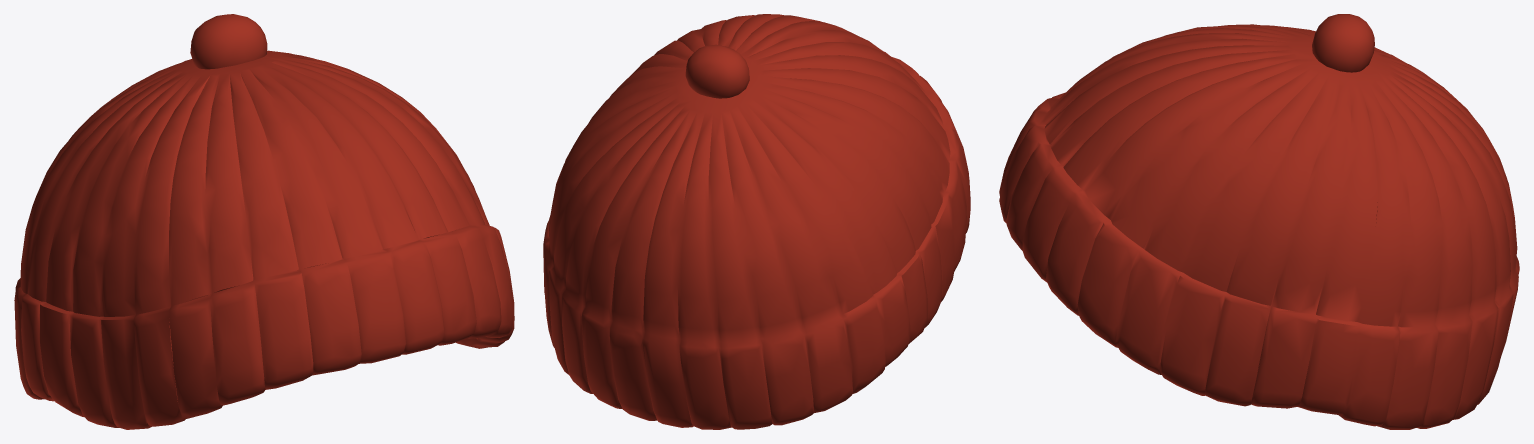
Rendered from headwear-beanie-red-8b26d170.glb.
The picture shows the model from 3 angles, left to right: view 1: azimuth 30°, elevation 25°; view 2: azimuth 150°, elevation 25°; view 3: azimuth 270°, elevation 25°; orthographic projection. The views are drawn at different scales.
Visible parts, largest first — view 1: Geo_Black_Older_Female_Beanie_Red.001; view 2: Geo_Black_Older_Female_Beanie_Red.001; view 3: Geo_Black_Older_Female_Beanie_Red.001.
Boxes of the visible parts, left/top/right/bottom form: Geo_Black_Older_Female_Beanie_Red.001: left=14, top=14, right=514, bottom=429; Geo_Black_Older_Female_Beanie_Red.001: left=543, top=14, right=970, bottom=429; Geo_Black_Older_Female_Beanie_Red.001: left=999, top=14, right=1519, bottom=429.
Size of the model in its own units: 1.59 by 1.43 by 1.86.
